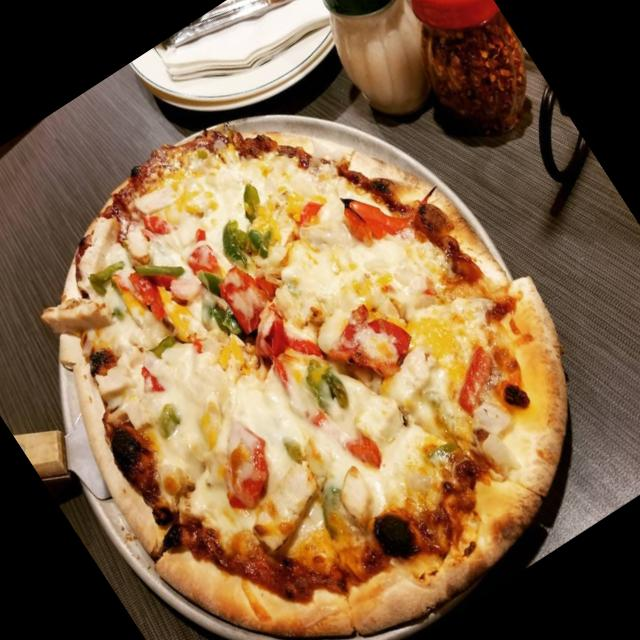peppers: (206, 259, 314, 386), (319, 290, 419, 390), (200, 178, 288, 268), (204, 426, 284, 506), (336, 182, 407, 254), (442, 343, 508, 408), (104, 266, 157, 328), (151, 280, 202, 340), (132, 241, 182, 292), (84, 250, 130, 296), (138, 200, 177, 240), (133, 360, 163, 394)
pizza: (41, 121, 572, 640)
